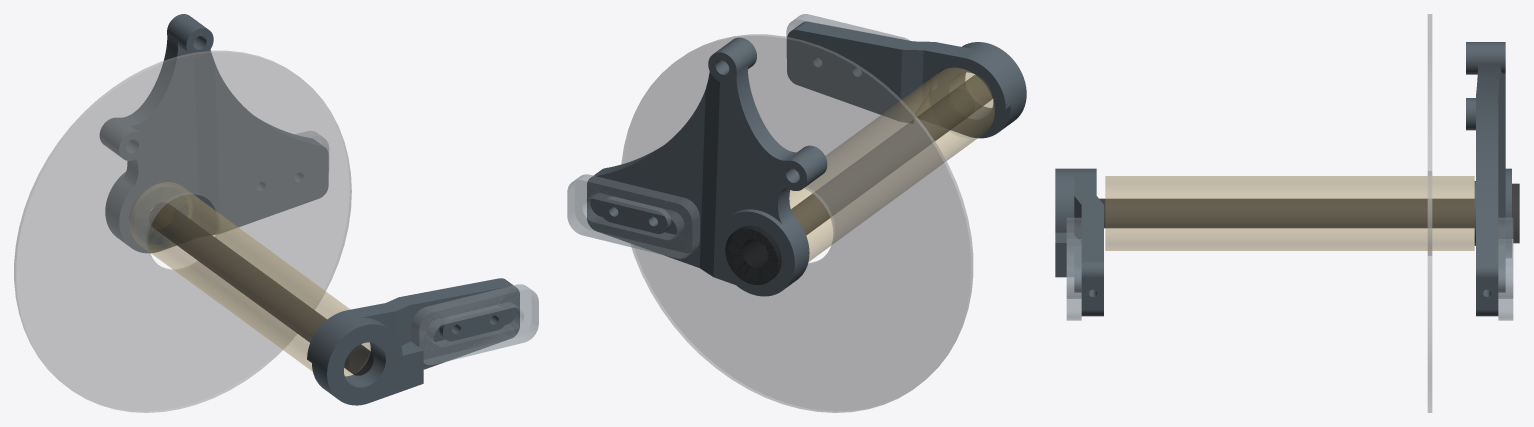
File: assembly.glb
3 views of the same model, side by side, from view 1: azimuth 30°, elevation 25°; view 2: azimuth 150°, elevation 25°; view 3: azimuth 270°, elevation 25° (orthographic). The views are drawn at different scales.
Visible parts, largest first — view 1: rotor, dropout_left, dropout_right, hub, thru_axle, frame_plate_right; view 2: rotor, dropout_left, dropout_right, hub, thru_axle, frame_plate_left, frame_plate_right; view 3: hub, thru_axle, dropout_left, dropout_right, rotor, frame_plate_right, frame_plate_left.
Boxes of the visible parts, x1=… form: rotor: x1=14, y1=50, x2=351, y2=412; dropout_left: x1=99, y1=14, x2=328, y2=253; dropout_right: x1=307, y1=278, x2=519, y2=405; hub: x1=130, y1=182, x2=370, y2=376; thru_axle: x1=149, y1=203, x2=373, y2=375; frame_plate_right: x1=412, y1=284, x2=538, y2=364; rotor: x1=621, y1=34, x2=973, y2=412; dropout_left: x1=587, y1=37, x2=827, y2=296; dropout_right: x1=787, y1=21, x2=1026, y2=138; hub: x1=789, y1=67, x2=994, y2=261; thru_axle: x1=725, y1=74, x2=993, y2=284; frame_plate_left: x1=567, y1=174, x2=699, y2=258; frame_plate_right: x1=786, y1=14, x2=909, y2=56; hub: x1=1105, y1=176, x2=1474, y2=250; thru_axle: x1=1099, y1=183, x2=1519, y2=243; dropout_left: x1=1466, y1=42, x2=1511, y2=316; dropout_right: x1=1055, y1=168, x2=1103, y2=316; rotor: x1=1427, y1=14, x2=1432, y2=412; frame_plate_right: x1=1066, y1=217, x2=1081, y2=320; frame_plate_left: x1=1498, y1=217, x2=1513, y2=320.
Size of the model in its own units: 165 by 163 by 186.
